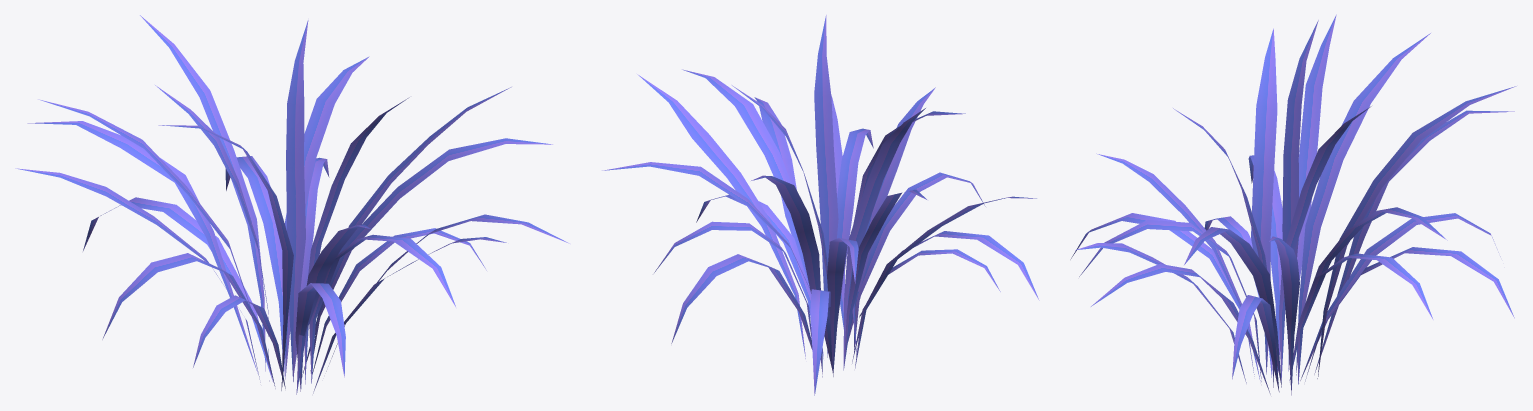
File: grass_generic_clump_large.fbx
3 views of the same model, side by side, from view 1: azimuth 30°, elevation 25°; view 2: azimuth 150°, elevation 25°; view 3: azimuth 270°, elevation 25° (orthographic). The views are drawn at different scales.
Visible parts, largest first — view 1: grass_generic_clump_large; view 2: grass_generic_clump_large; view 3: grass_generic_clump_large.
Part boxes in pixels (box(x1,y1,x2,y2)): grass_generic_clump_large: box(15, 15, 569, 394); grass_generic_clump_large: box(602, 15, 1039, 395); grass_generic_clump_large: box(1070, 14, 1516, 395).
Size of the model in its own units: 187 by 123 by 160.
